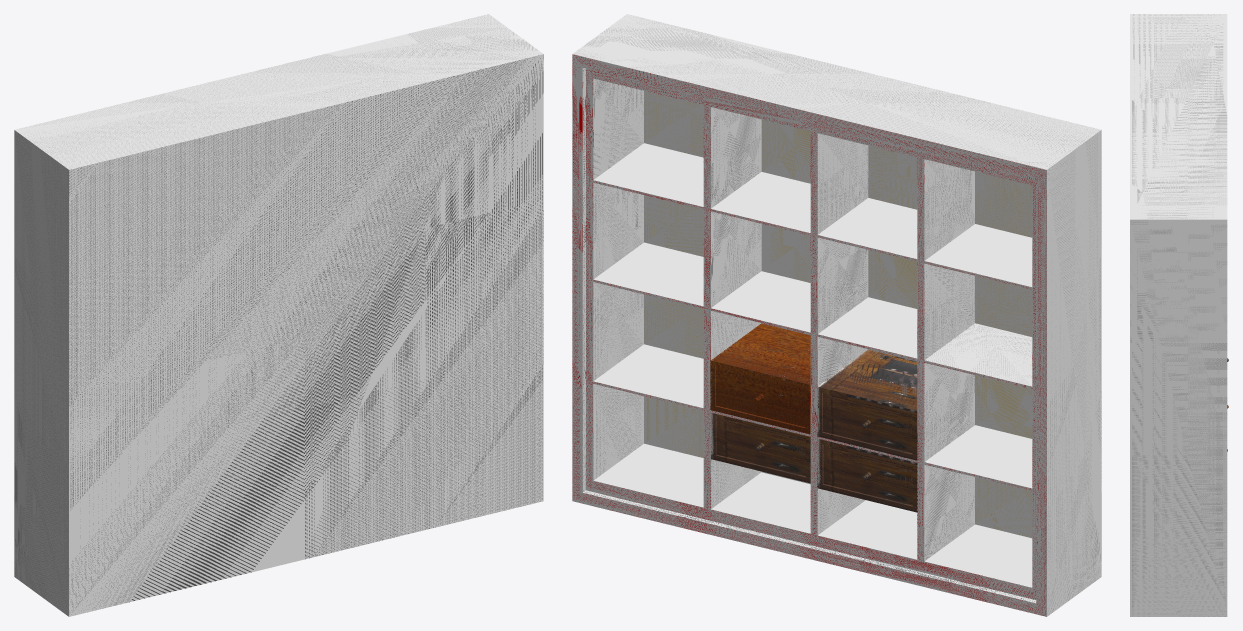
3 views of the same model, side by side, from view 1: azimuth 30°, elevation 25°; view 2: azimuth 150°, elevation 25°; view 3: azimuth 270°, elevation 25° (orthographic). The views are drawn at different scales.
Visible parts, largest first — view 1: mesh45_mesh45-geometry; view 2: mesh45_mesh45-geometry, mesh12_mesh12-geometry, mesh1_mesh1-geometry, mesh23_mesh23-geometry, mesh34_mesh34-geometry; view 3: mesh45_mesh45-geometry.
Part boxes in pixels (x1,y1,x2,y2): mesh45_mesh45-geometry: (14,14,543,616); mesh45_mesh45-geometry: (572,14,1101,616); mesh12_mesh12-geometry: (817,349,917,460); mesh1_mesh1-geometry: (710,323,810,434); mesh23_mesh23-geometry: (817,438,917,512); mesh34_mesh34-geometry: (711,412,810,483); mesh45_mesh45-geometry: (1130,14,1227,616).
Bounding box in the file's own units: 0.735 × 0.6615 × 0.1492.
